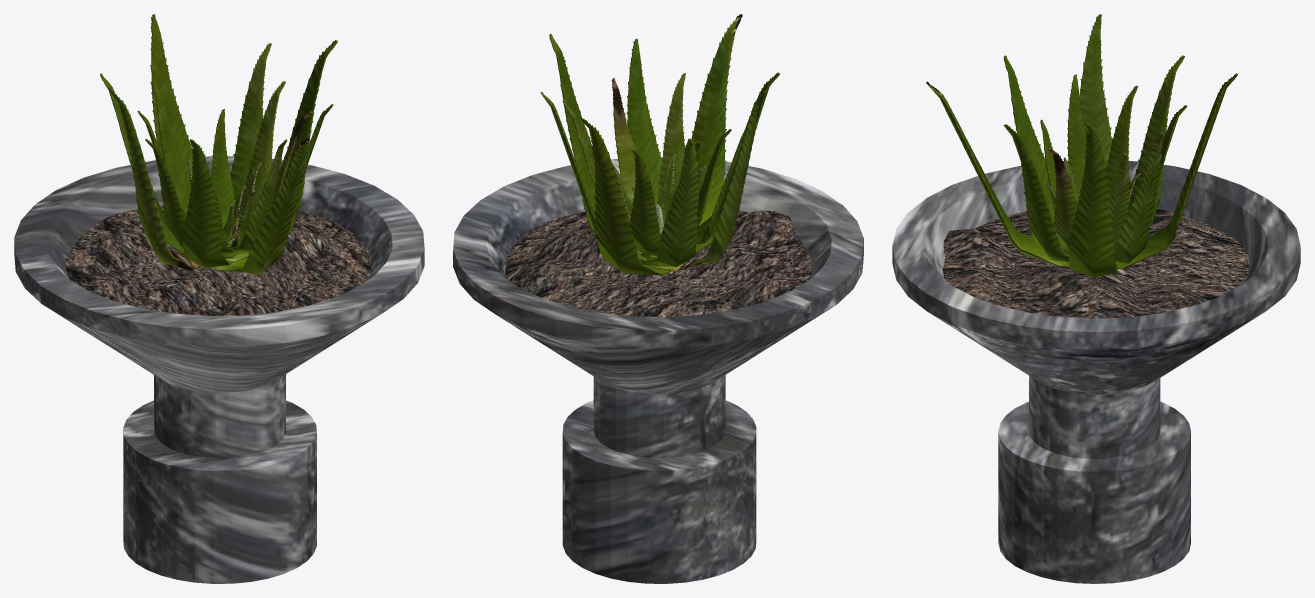
File: Aloe Veras.fbx
3 views of the same model, side by side, from view 1: azimuth 30°, elevation 25°; view 2: azimuth 150°, elevation 25°; view 3: azimuth 270°, elevation 25° (orthographic).
Visible parts, largest first — view 1: Plane.026, Plane.025, Plane.027, Plane.008, Plane.004, Plane.003, Plane.005, Plane.002, Plane.016, Plane.011, Plane.001, Plane.014 (+5 smaller); view 2: Plane.026, Plane.025, Plane.027, Plane.002, Plane.004, Plane.006, Plane.007, Plane.003, Plane.001, Plane.016, Plane.012, Plane.017 (+4 smaller); view 3: Plane.026, Plane.025, Plane.027, Plane.001, Plane.005, Plane.003, Plane.007, Plane.002, Plane.004, Plane.006, Plane.008, Plane.013 (+4 smaller).
Boxes of the visible parts, x1,y1,x2,y2 form: Plane.026: (14, 156, 424, 392); Plane.025: (123, 374, 316, 583); Plane.027: (66, 205, 371, 315); Plane.008: (181, 139, 233, 267); Plane.004: (214, 137, 309, 274); Plane.003: (108, 87, 199, 273); Plane.005: (230, 43, 271, 201); Plane.002: (150, 14, 192, 193); Plane.016: (152, 82, 191, 216); Plane.011: (227, 81, 285, 246); Plane.001: (196, 40, 337, 266); Plane.014: (211, 109, 235, 227); Plane.026: (453, 157, 863, 393); Plane.025: (562, 375, 756, 583); Plane.027: (505, 210, 811, 316); Plane.002: (581, 118, 673, 275); Plane.004: (636, 14, 742, 251); Plane.006: (645, 138, 698, 267); Plane.007: (626, 39, 662, 258); Plane.003: (668, 90, 766, 273); Plane.001: (549, 34, 684, 270); Plane.016: (629, 149, 660, 254); Plane.012: (655, 73, 685, 209); Plane.017: (611, 78, 635, 207); Plane.026: (892, 161, 1300, 394); Plane.025: (998, 376, 1190, 583); Plane.027: (942, 209, 1249, 318); Plane.001: (1067, 123, 1118, 277); Plane.005: (1114, 132, 1163, 263); Plane.003: (1079, 14, 1112, 168); Plane.007: (1005, 124, 1068, 262); Plane.002: (1116, 73, 1237, 269); Plane.004: (926, 81, 1069, 266); Plane.006: (1127, 55, 1184, 223); Plane.008: (1003, 55, 1065, 250); Plane.013: (1067, 74, 1086, 195).
Bounding box in the file's own units: 35.3 × 45.49 × 35.3.
Materials: 26 (26 with a texture image).
